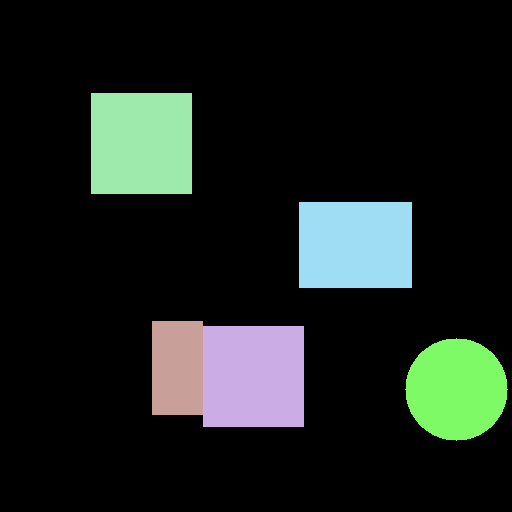circle: (405, 338, 507, 440)
rectangle: (152, 321, 303, 426), (299, 202, 411, 287)
square: (91, 93, 191, 193)
